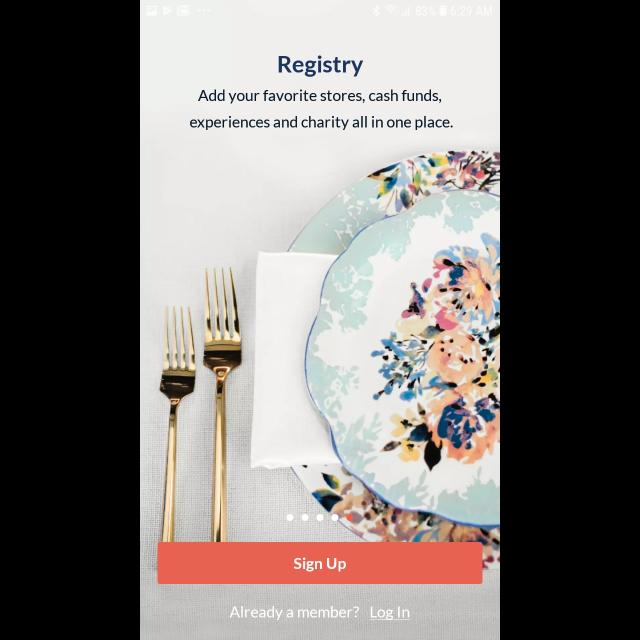backgroundimage: (140, 18, 500, 640)
pageindicator: (286, 514, 354, 522)
text: (191, 116, 454, 130), (198, 90, 442, 104), (278, 55, 364, 77), (229, 606, 359, 620), (370, 606, 410, 620)
textbutton: (158, 542, 482, 584)
uppertaskbar: (140, 1, 500, 18)
